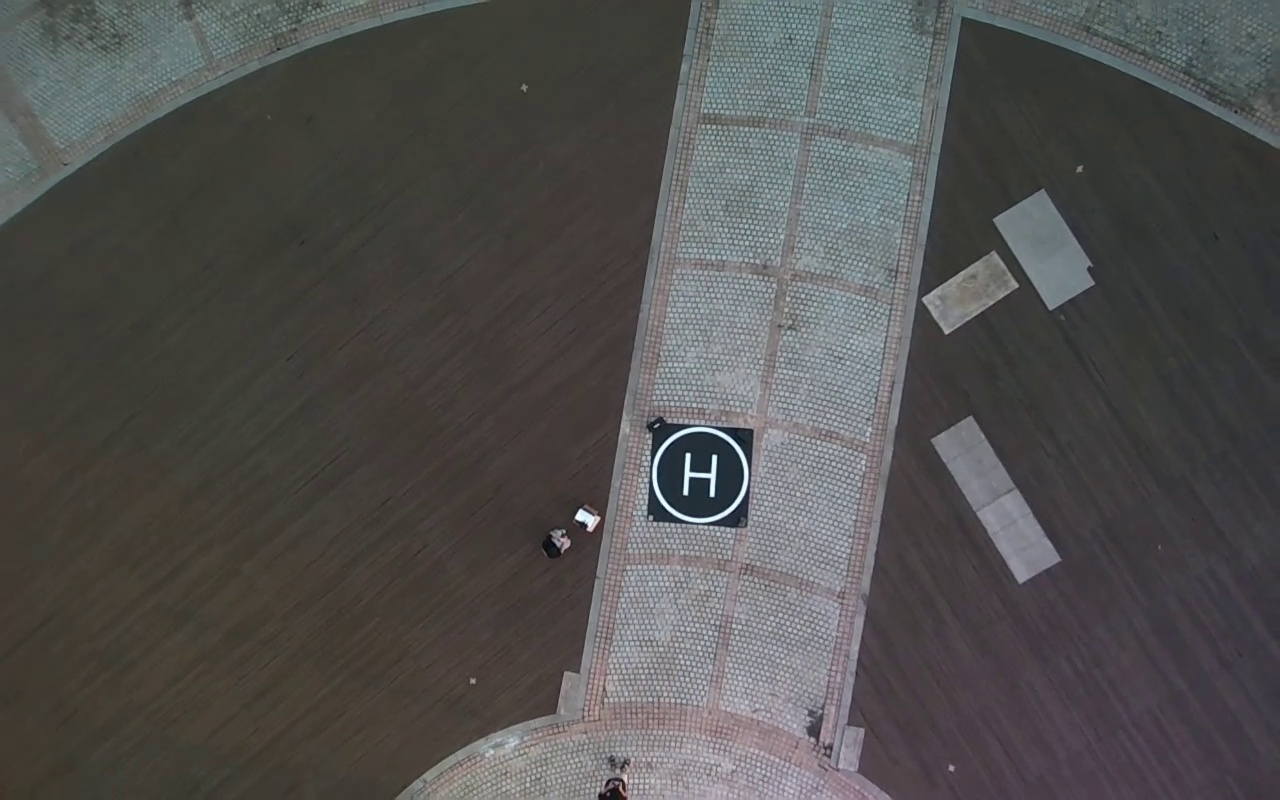H: (681, 451, 718, 497)
heliport: (652, 425, 750, 525)
